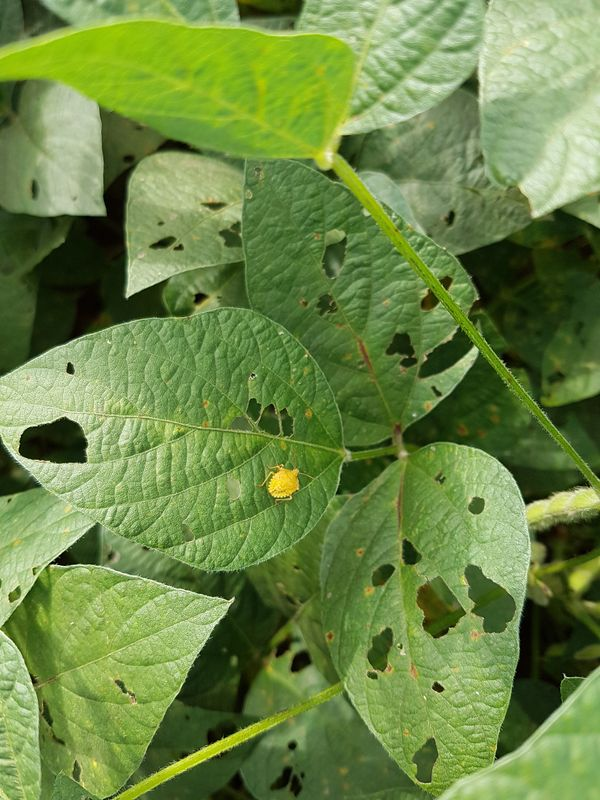Euschistus_heros_ninfa: (256, 457, 310, 506)
